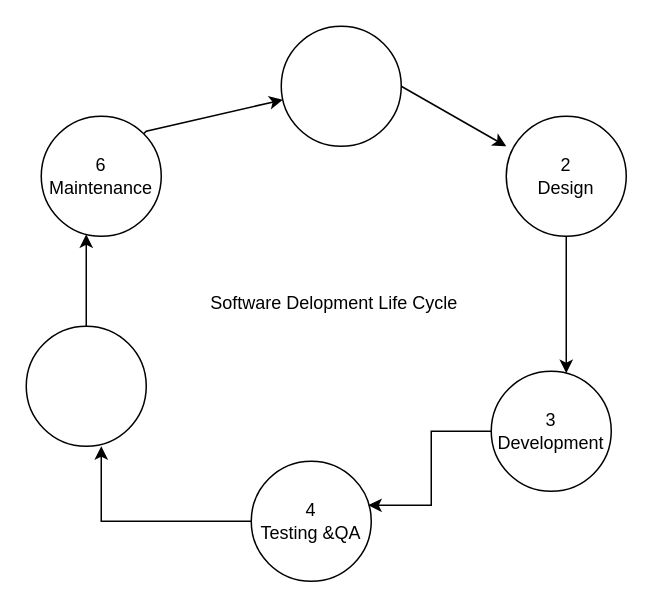
Some shapes in this 653 by 608 pixel diagram are drawn without their labels. Each missing label, with the centre of its shape:
"1 Discovery" goes at pixel 340 85.
"5 Release" goes at pixel 85 385.
